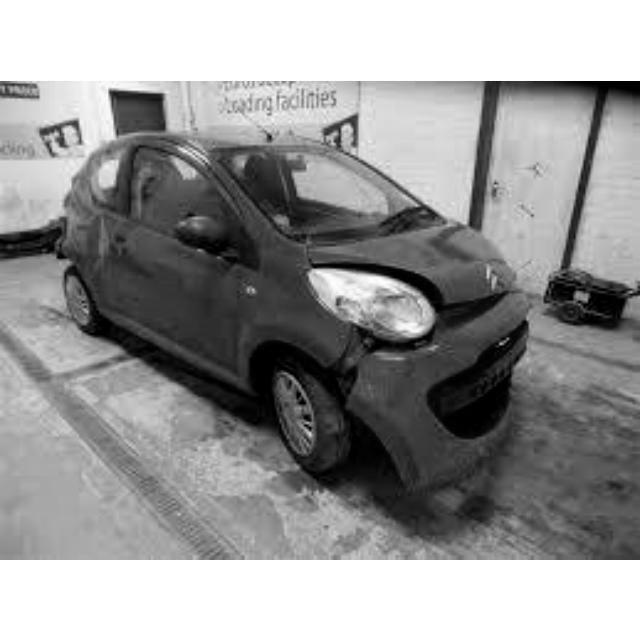bonnet-dent: (329, 226, 519, 310)
front-bumper-dent: (398, 342, 538, 438)
